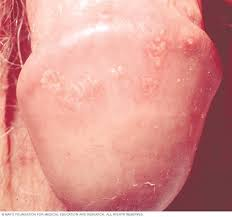herpes: (8, 7, 223, 201)
